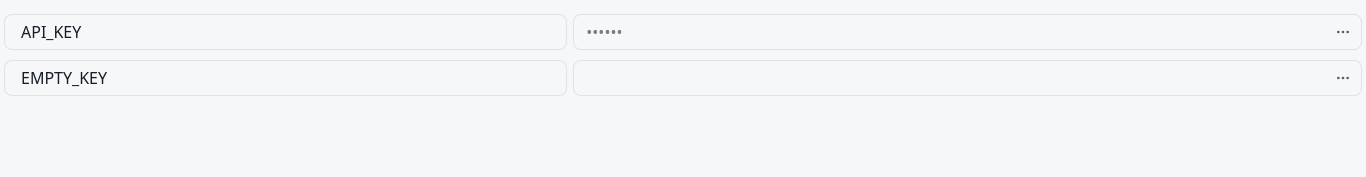
Test: SecretsContent › shows saved-value shells with an overflow menu only for secrets that have a saved value
The image size is (1366, 177).
Expected: the button named "Reveal API_KEY" is shown, [574,15,1327,49]
Expected: the text "••••••" is shown, [586,24,622,40]
What coordinates should you click on to do the following:
click the button named "Open actions for API_KEY"
I would click on:
 (1343, 32)
Its box is [1327,16,1359,48].
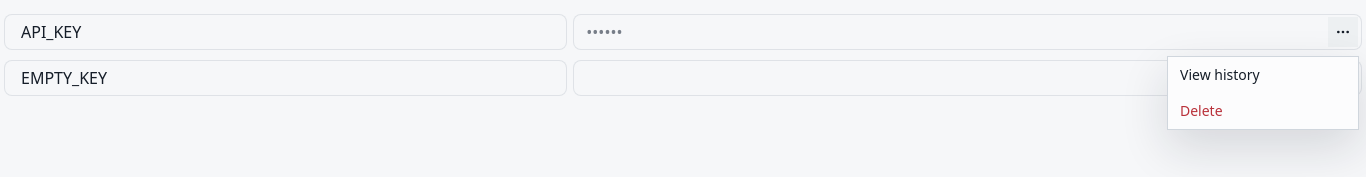
Result: the menu item "View history" is shown at [1180,65,1260,84]
Result: the menu item "Delete" is shown at [1180,101,1223,120]
